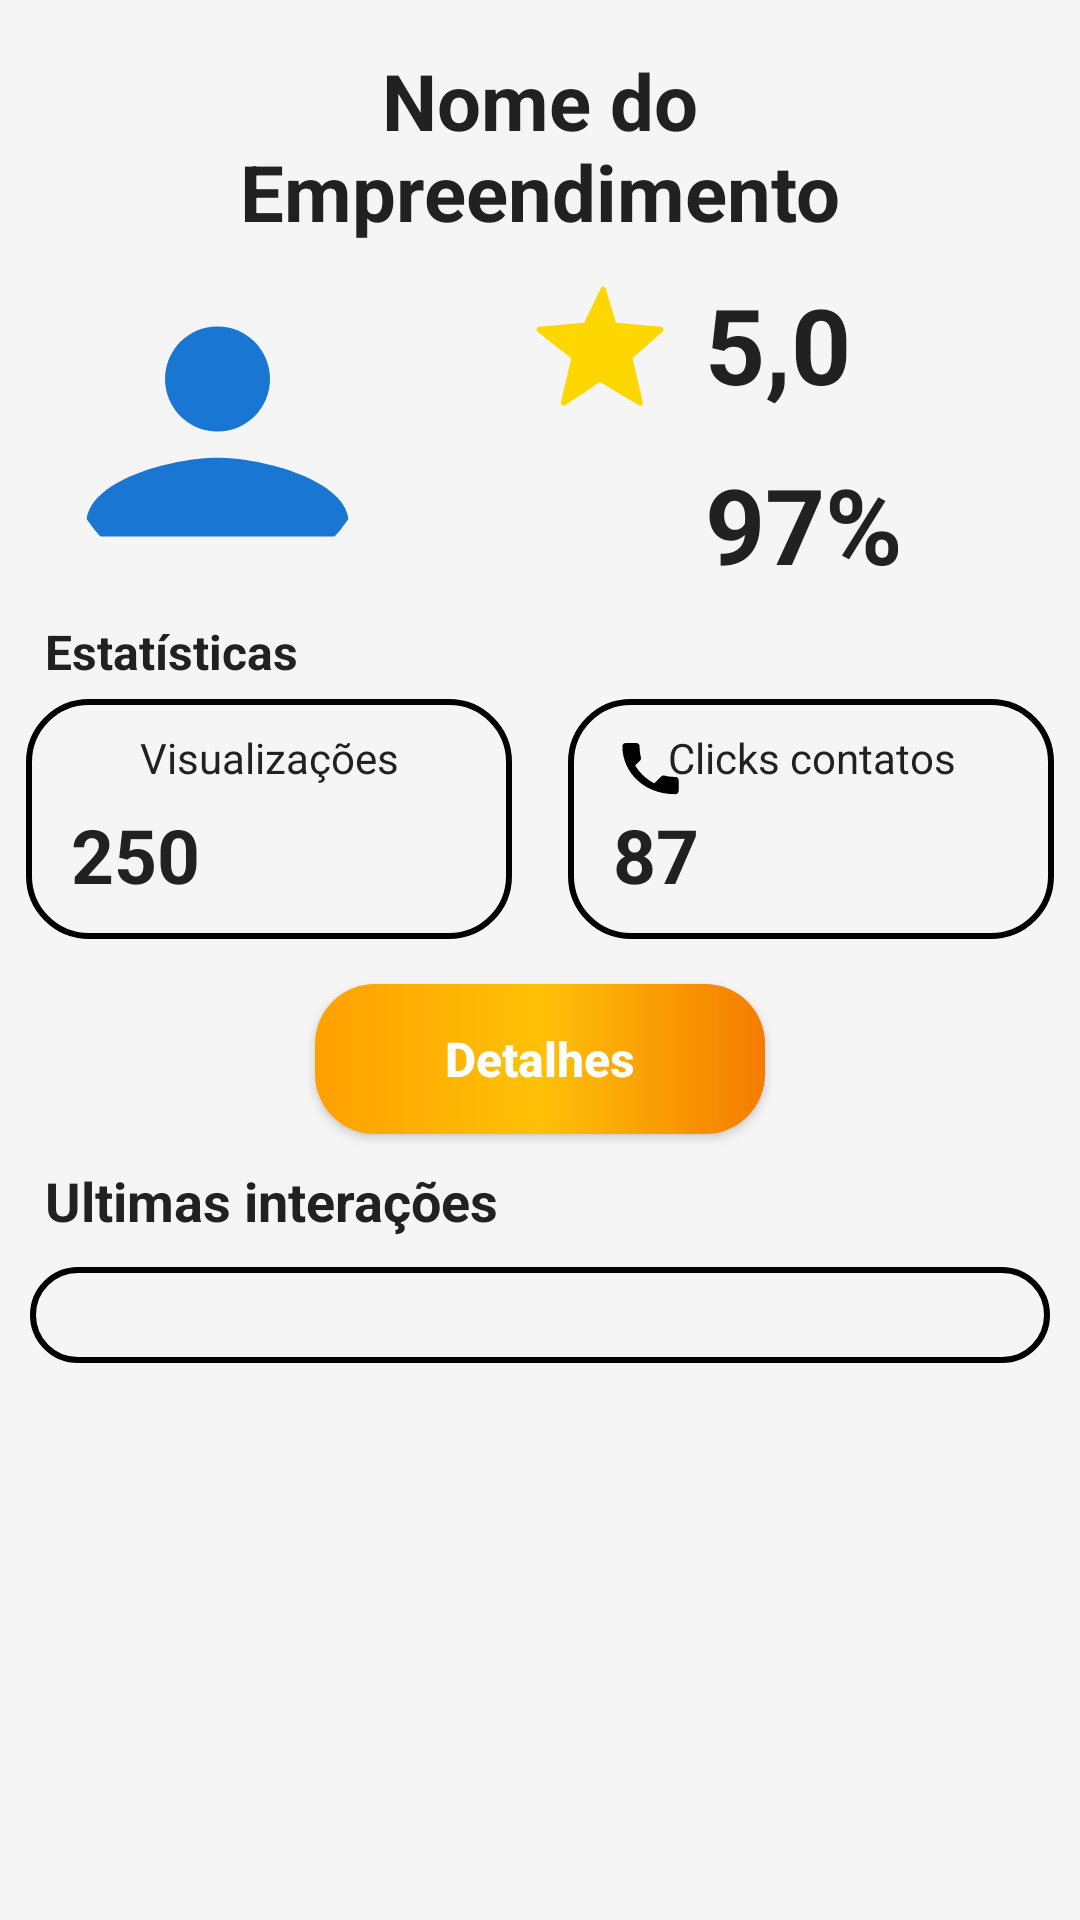

Icon click points for this 1080w x 1920h phone screenshot, format (x,y):
estrela: (600,346)
perfil: (217,431)
tell: (650,769)
